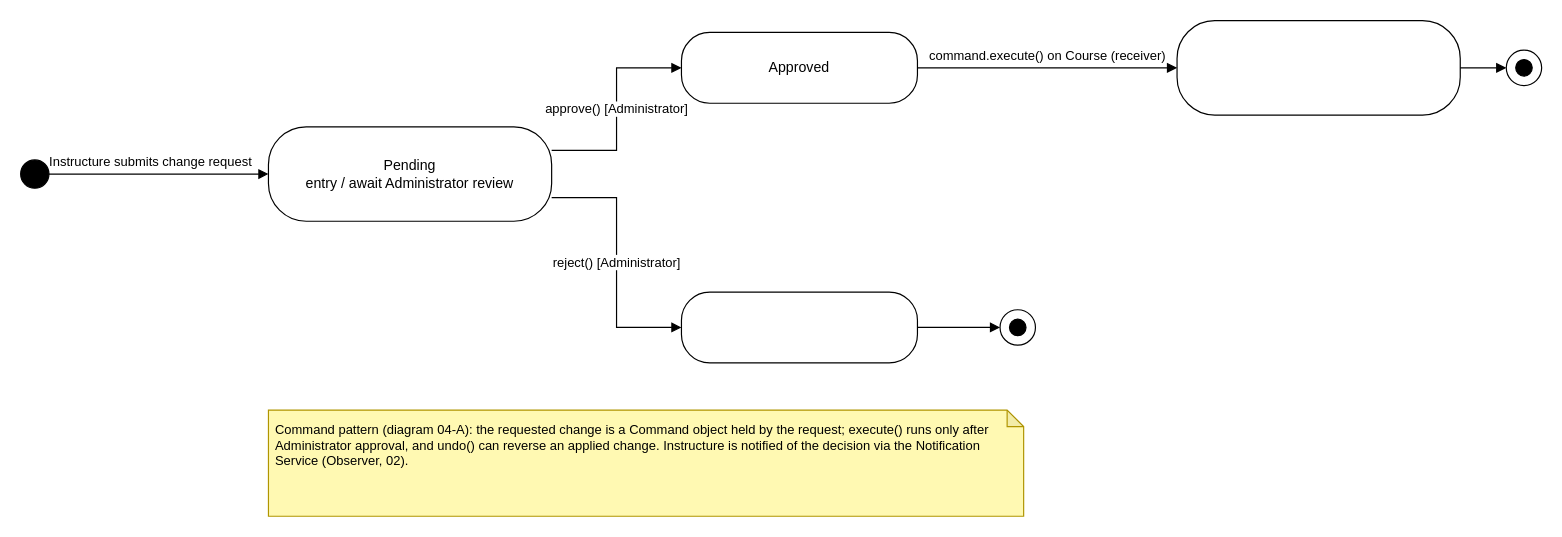
Image size: 1562x537. Some labels were removed from this diagram. Here are the shapes that lost their labels. From the top down, the centre of each, then its label:
At [1318,67]: "Applied entry / store command for audit".
At [798,327]: "Rejected".
